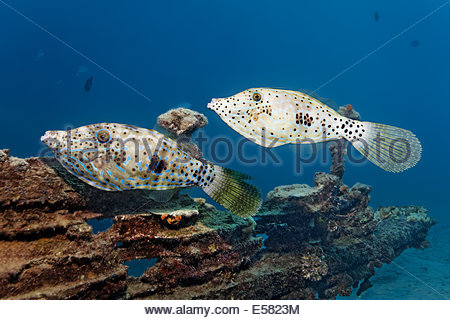Aluterus_scriptus: (37, 121, 262, 216), (206, 83, 425, 172)
